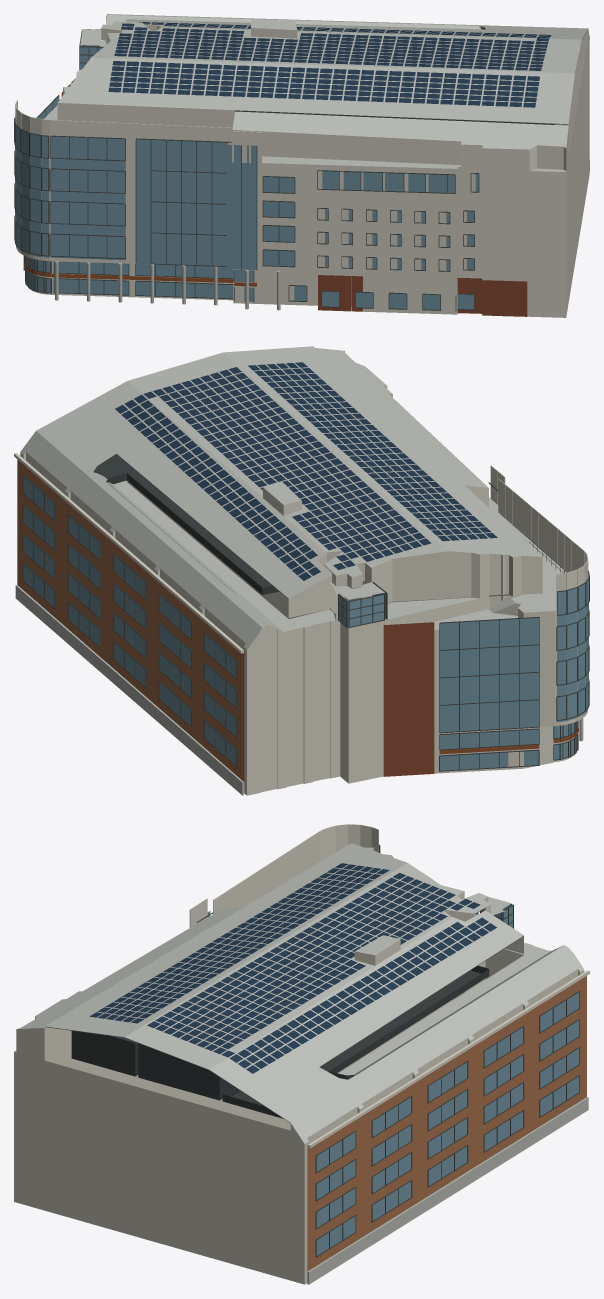
The model's file is academie-theater-dans.glb.
3 renders of one model, top to bottom at view 1: azimuth 30°, elevation 25°; view 2: azimuth 150°, elevation 25°; view 3: azimuth 270°, elevation 25°, orthographic. The views are drawn at different scales.
Parts seen in each view (by area): view 1: academie-theater-dans; view 2: academie-theater-dans; view 3: academie-theater-dans.
Boxes of the visible parts, left/top/right/bottom form: academie-theater-dans: left=14, top=14, right=589, bottom=317; academie-theater-dans: left=14, top=346, right=589, bottom=795; academie-theater-dans: left=14, top=824, right=589, bottom=1284.
Bounding box in the file's own units: 84.88 × 28.29 × 74.45.
